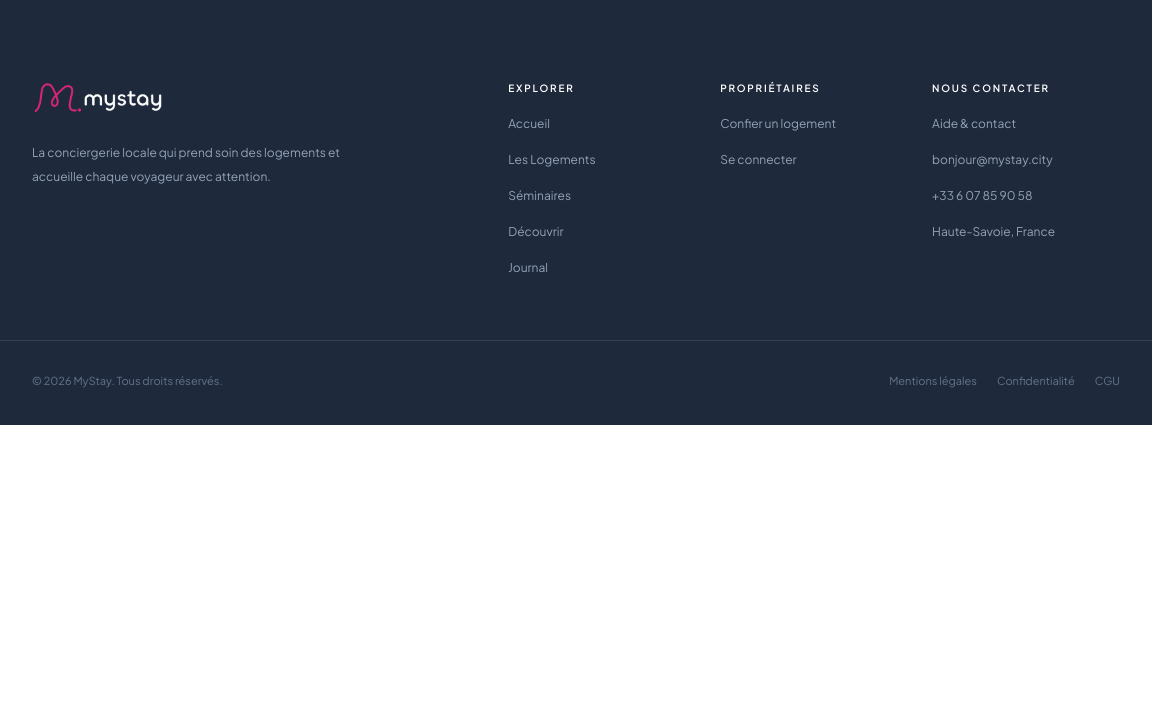
Test: 053 help contact modal › AC-01-03/04: sends a help_contact message and confirms
Click the button "Aide & contact" at x=974, y=124, box [932,108,1016,140]
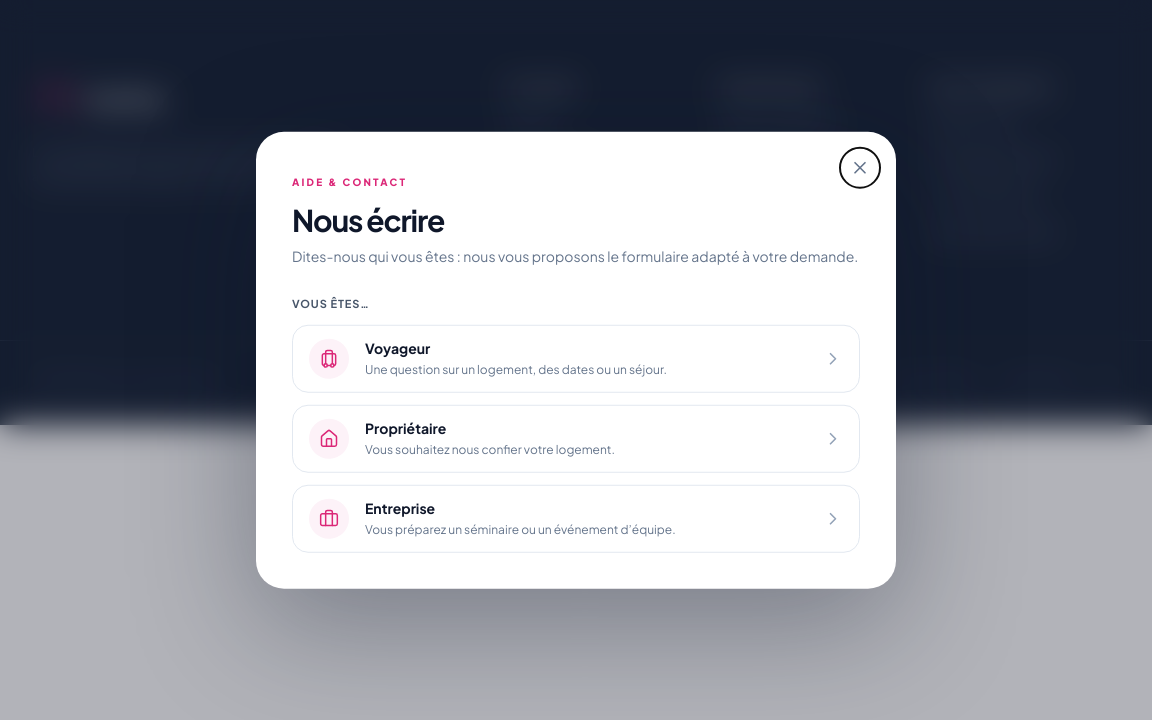
Click the button "Voyageur" at x=576, y=358, box [292,324,860,392]
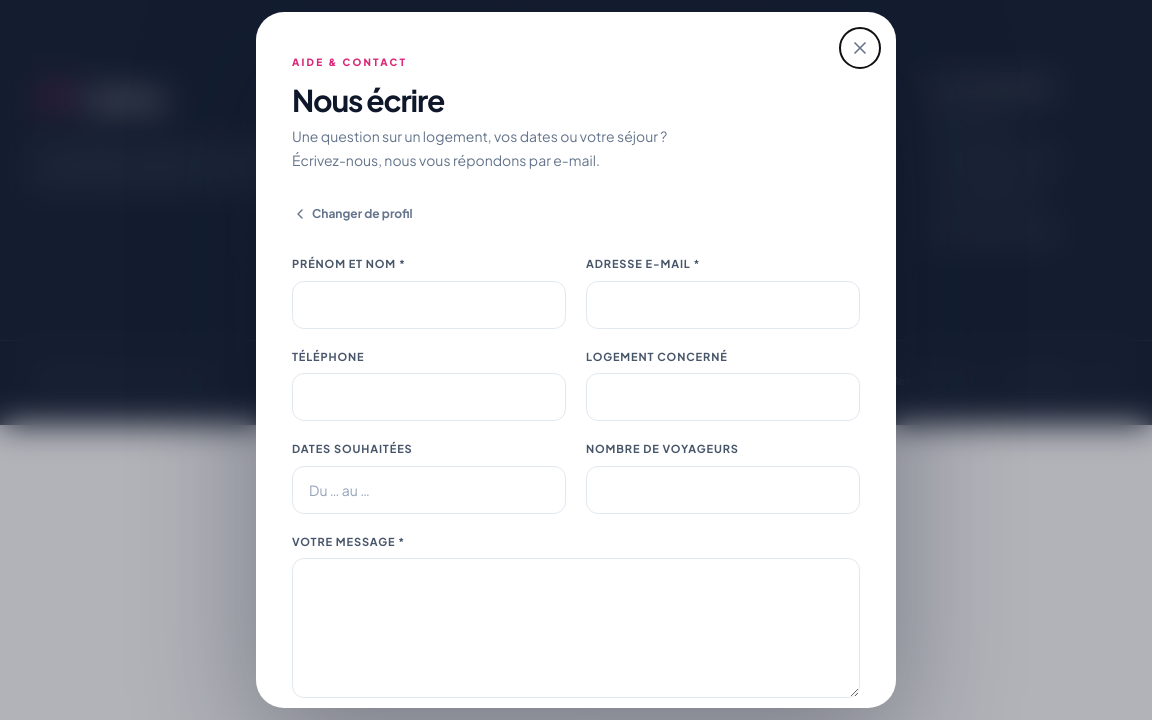
Type "Paul Durand" into the field labelled "Prénom et nom *" at x=429, y=304, box [292,280,566,328]
Type "paul@exemple.test" into the field labelled "Adresse e-mail *" at x=723, y=304, box [586,280,860,328]
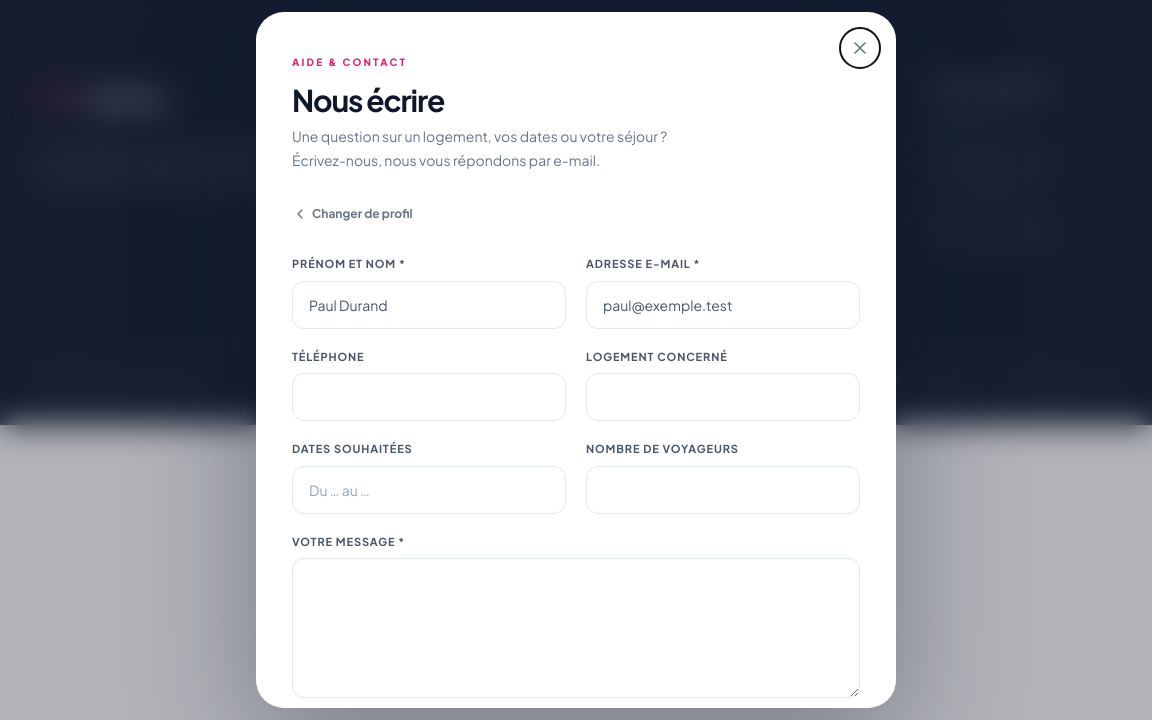
Type "Bonjour, je cherche le lien de mon guide de séjour." into the text box labelled "Votre message *" at x=576, y=628, box [292,558,860,698]
(page scrolled)
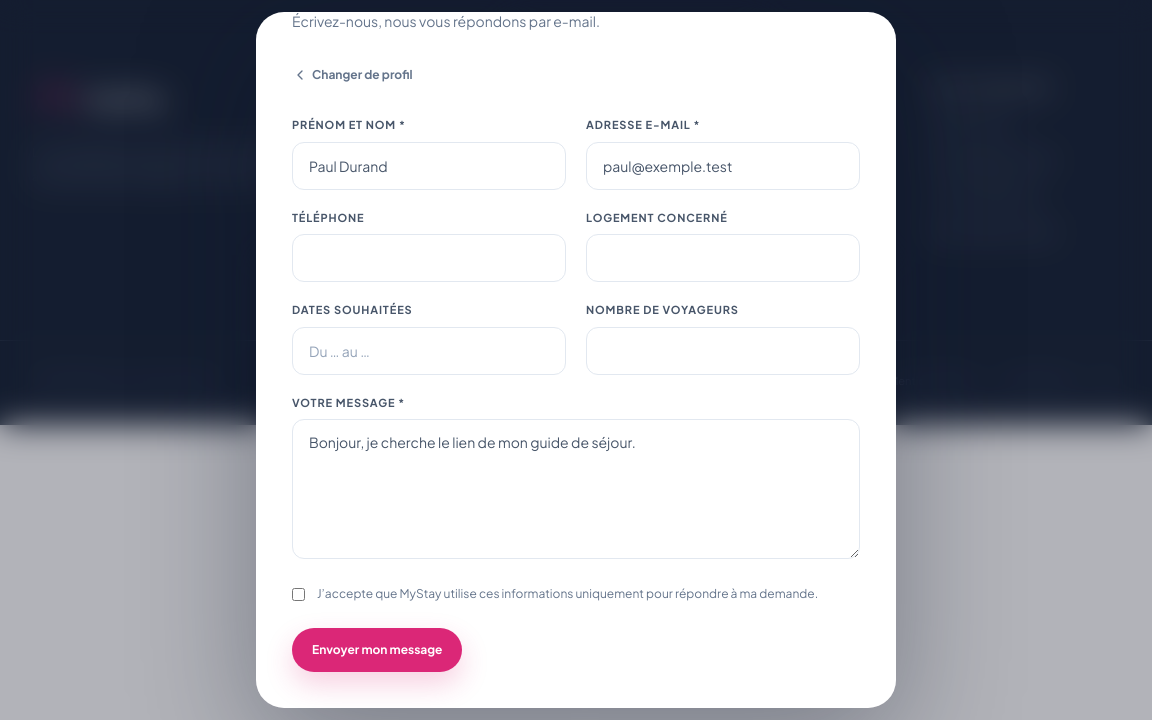
Click the checkbox at x=298, y=594, box [292,588,305,600]
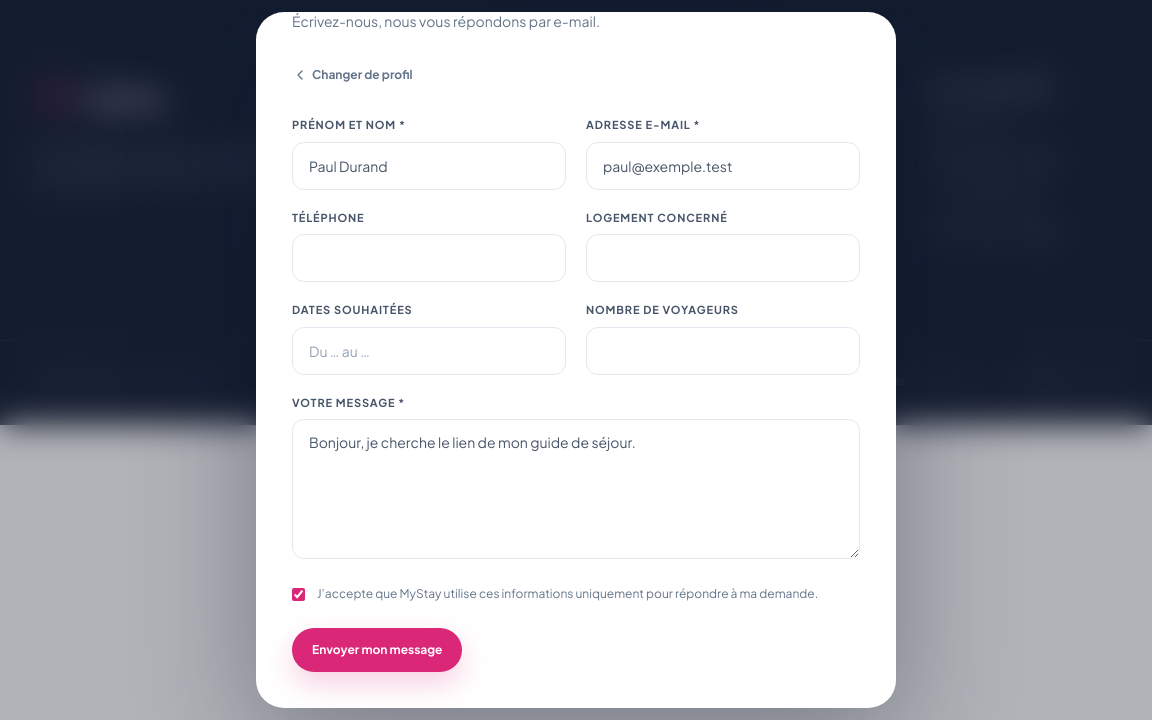
Submit the form named "Envoyer mon message", box [292,117,860,672]
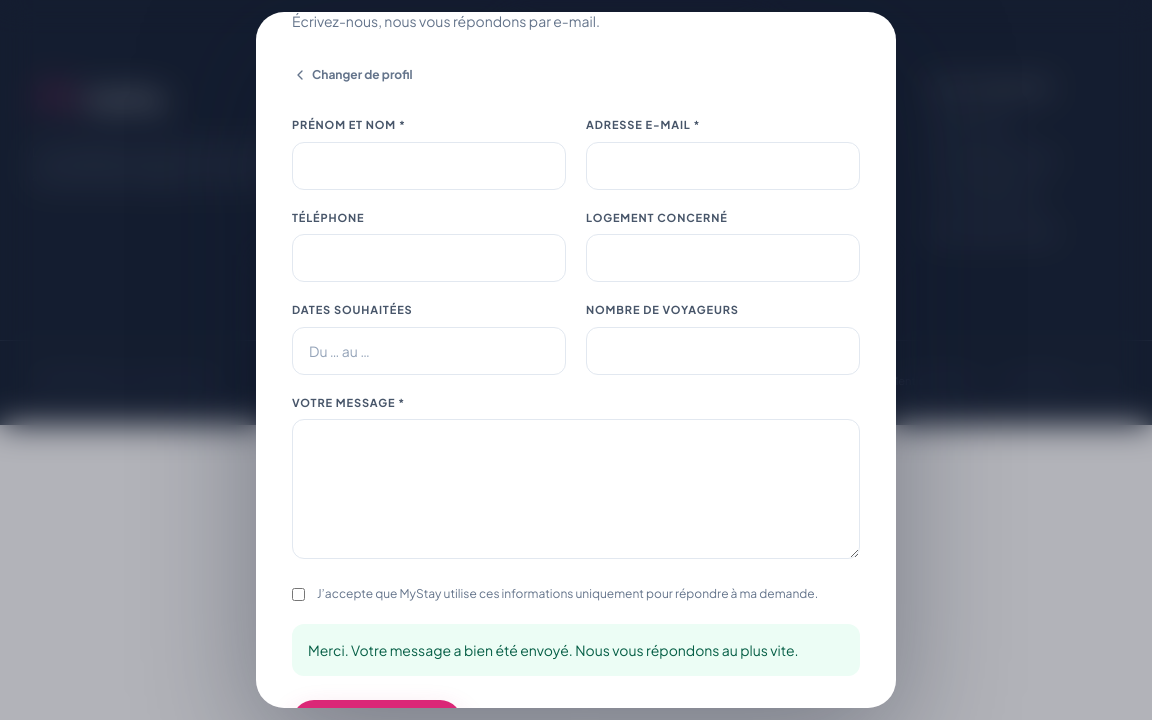
Expected: the message reads "Merci. Votre message a bien été envoyé. Nous vous répondons au plus vite.", [308,640,799,658]
